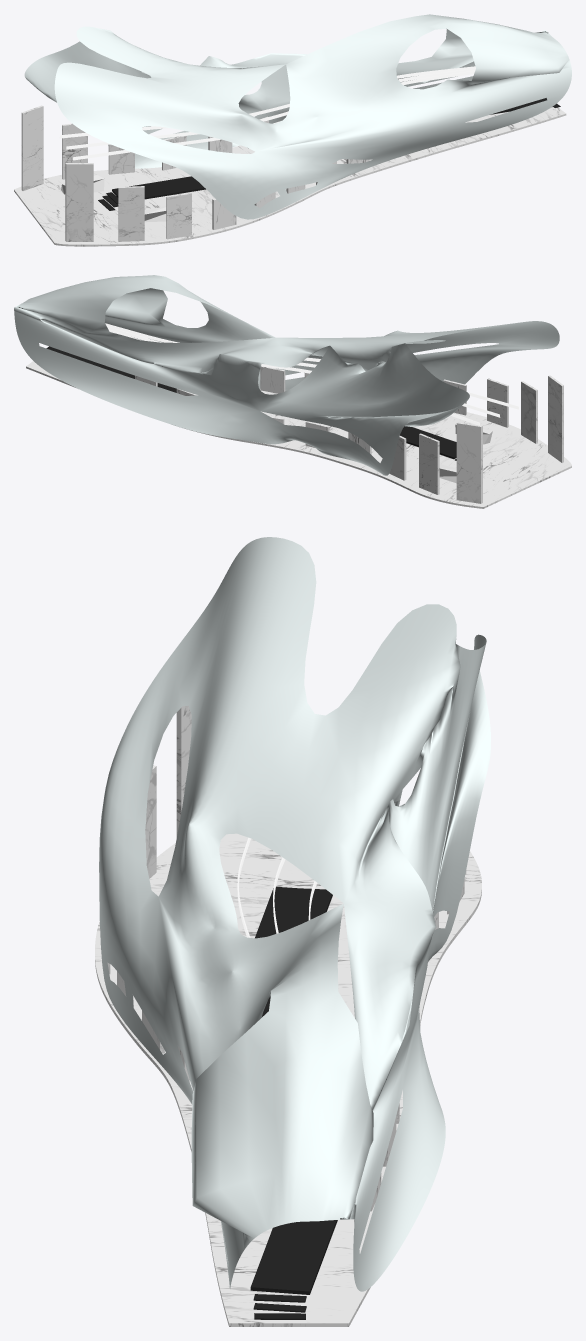
The model's file is SGR.glb.
3 views of the same model, one above another, from view 1: azimuth 30°, elevation 25°; view 2: azimuth 150°, elevation 25°; view 3: azimuth 270°, elevation 25° (orthographic). The views are drawn at different scales.
Visible parts, largest first — view 1: Plane, IfcWallStandardCase/Basic Wall:Generic - 200mm:345885, IfcBuildingElementProxy/Generic Models 1:Generic Models 1:35, IfcSlab/Floor:Generic 150mm:343883, SketchUp.001; view 2: Plane, IfcWallStandardCase/Basic Wall:Generic - 200mm:345885, IfcBuildingElementProxy/Generic Models 1:Generic Models 1:35, IfcSlab/Floor:Generic 150mm:343883, SketchUp.001; view 3: Plane, IfcWallStandardCase/Basic Wall:Generic - 200mm:345885, IfcSlab/Floor:Generic 150mm:343883, Cube.
Boxes of the visible parts, x1,y1,x2,y2 form: Plane: (24, 14, 571, 219); IfcWallStandardCase/Basic Wall:Generic - 200mm:345885: (14, 105, 566, 246); IfcBuildingElementProxy/Generic Models 1:Generic Models 1:35: (59, 66, 475, 160); IfcSlab/Floor:Generic 150mm:343883: (112, 100, 540, 199); SketchUp.001: (61, 175, 166, 222); Plane: (14, 275, 559, 475); IfcWallStandardCase/Basic Wall:Generic - 200mm:345885: (26, 361, 571, 508); IfcBuildingElementProxy/Generic Models 1:Generic Models 1:35: (105, 323, 518, 425); IfcSlab/Floor:Generic 150mm:343883: (53, 349, 456, 459); SketchUp.001: (439, 421, 492, 483); Plane: (99, 537, 490, 1291); IfcWallStandardCase/Basic Wall:Generic - 200mm:345885: (95, 705, 481, 1326); IfcSlab/Floor:Generic 150mm:343883: (250, 886, 337, 1294); Cube: (253, 888, 326, 1319).
Size of what is drawn, in the model's own units: 46.13 by 13.1 by 15.16.
4 materials, 1 textured.
